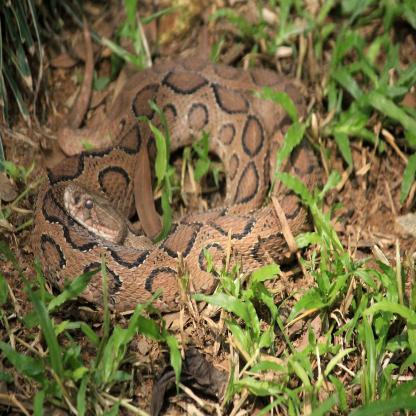Snake: (31, 62, 325, 305)
